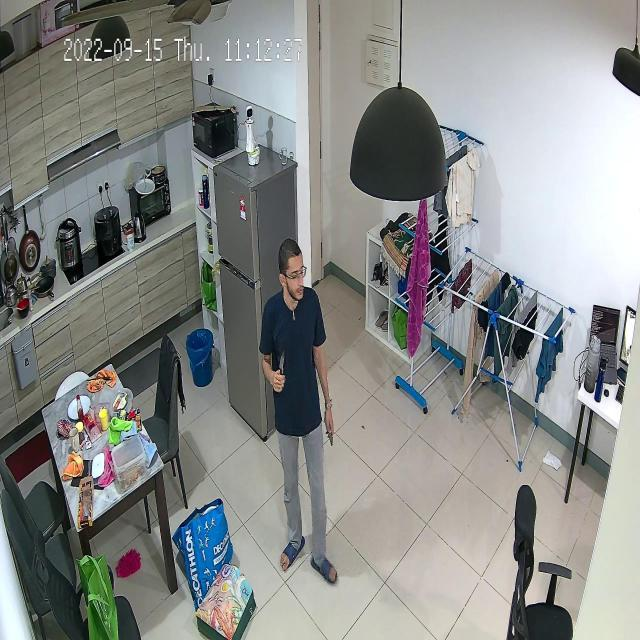Knife: (270, 349, 293, 398)
